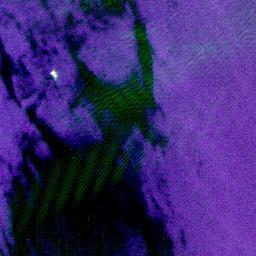Ship: (49, 67, 57, 80)
